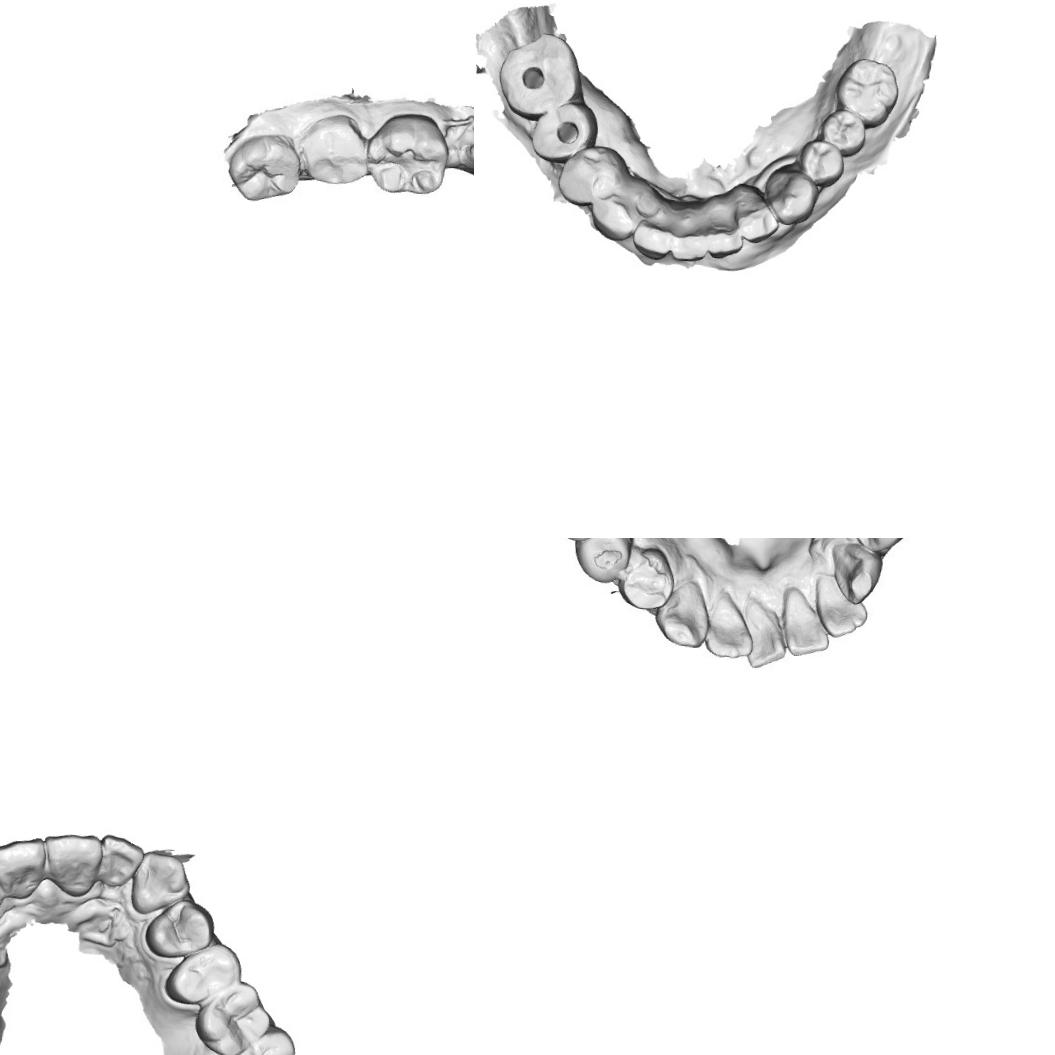canine: (127, 847, 194, 920), (825, 538, 883, 604), (760, 167, 820, 227), (656, 580, 708, 646), (585, 190, 642, 245)
incisor: (40, 829, 105, 900), (812, 573, 870, 642), (779, 589, 832, 659), (700, 589, 752, 660), (741, 596, 788, 674), (0, 832, 50, 903), (96, 831, 146, 891), (629, 217, 673, 260), (738, 202, 780, 246), (665, 230, 711, 264), (706, 224, 742, 265)
molar: (494, 28, 586, 122), (363, 112, 448, 202), (190, 975, 276, 1055), (222, 128, 308, 206), (295, 112, 368, 190), (832, 55, 904, 130), (209, 1017, 301, 1055)
premolar: (160, 935, 246, 1012), (141, 893, 219, 962), (612, 542, 678, 618), (528, 98, 600, 164), (552, 142, 622, 209), (571, 538, 632, 587), (797, 136, 846, 189), (816, 108, 866, 157), (847, 538, 912, 552)
